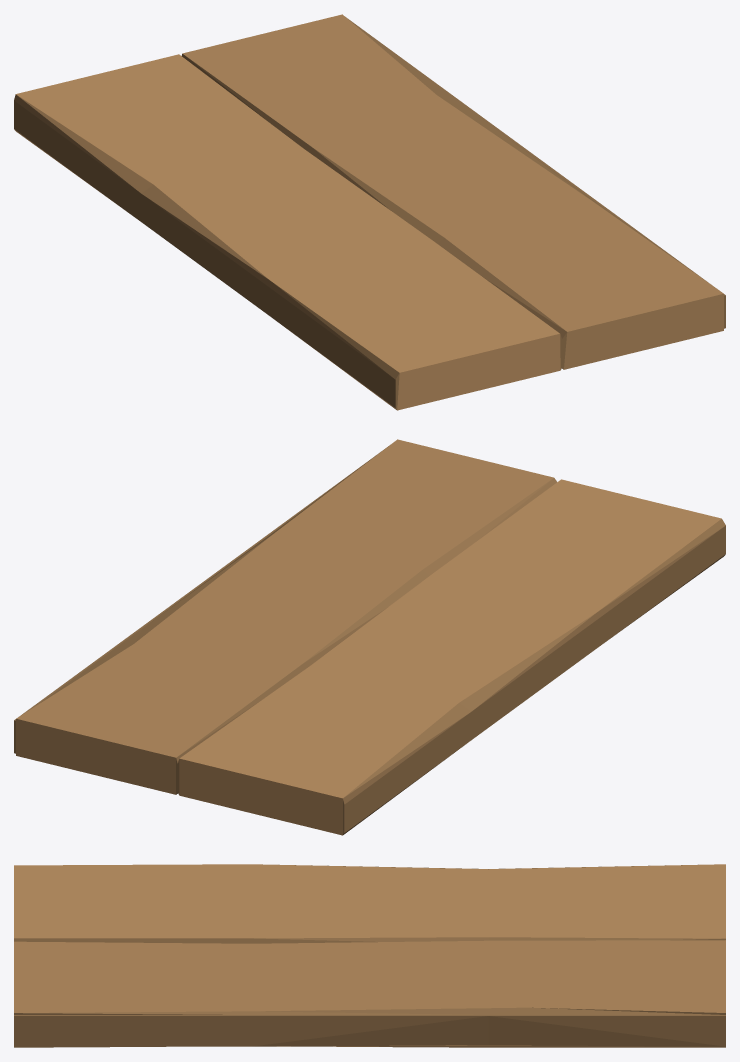
Rendered from SFV_Floor_M.fbx.
3 renders of one model, top to bottom at view 1: azimuth 30°, elevation 25°; view 2: azimuth 150°, elevation 25°; view 3: azimuth 270°, elevation 25°, orthographic. The views are drawn at different scales.
Visible parts, largest first — view 1: SFV_Floor_M; view 2: SFV_Floor_M; view 3: SFV_Floor_M.
Boxes of the visible parts, box(x1,y1,x2,y2) form: SFV_Floor_M: box(14, 14, 725, 410); SFV_Floor_M: box(14, 439, 725, 835); SFV_Floor_M: box(14, 864, 725, 1047).
Bounding box in the file's own units: 150 × 16.11 × 300.
